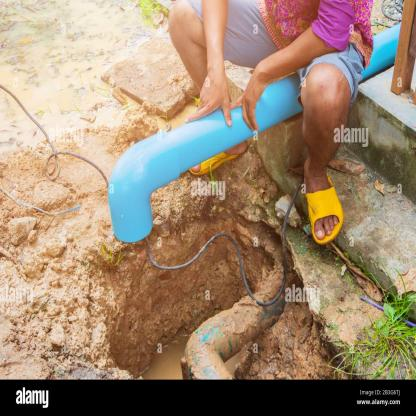PVC: (108, 72, 304, 242), (358, 23, 401, 85)
